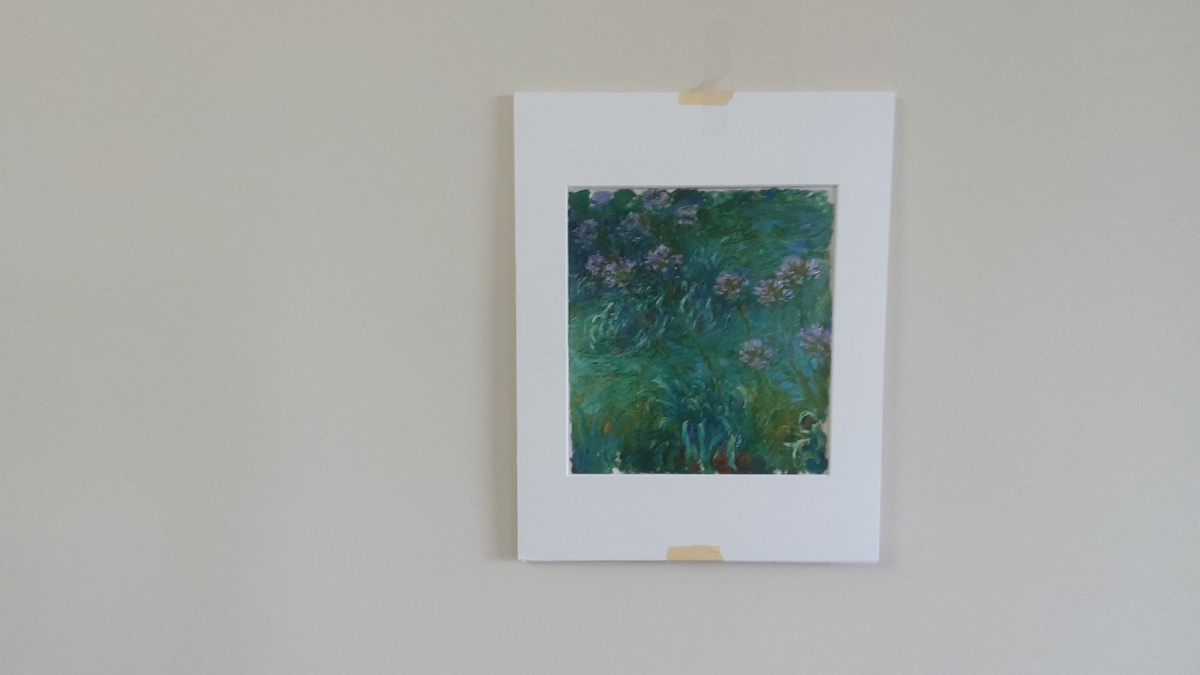painting: (564, 179, 846, 485)
